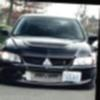License_Plate: (62, 71, 82, 82)
